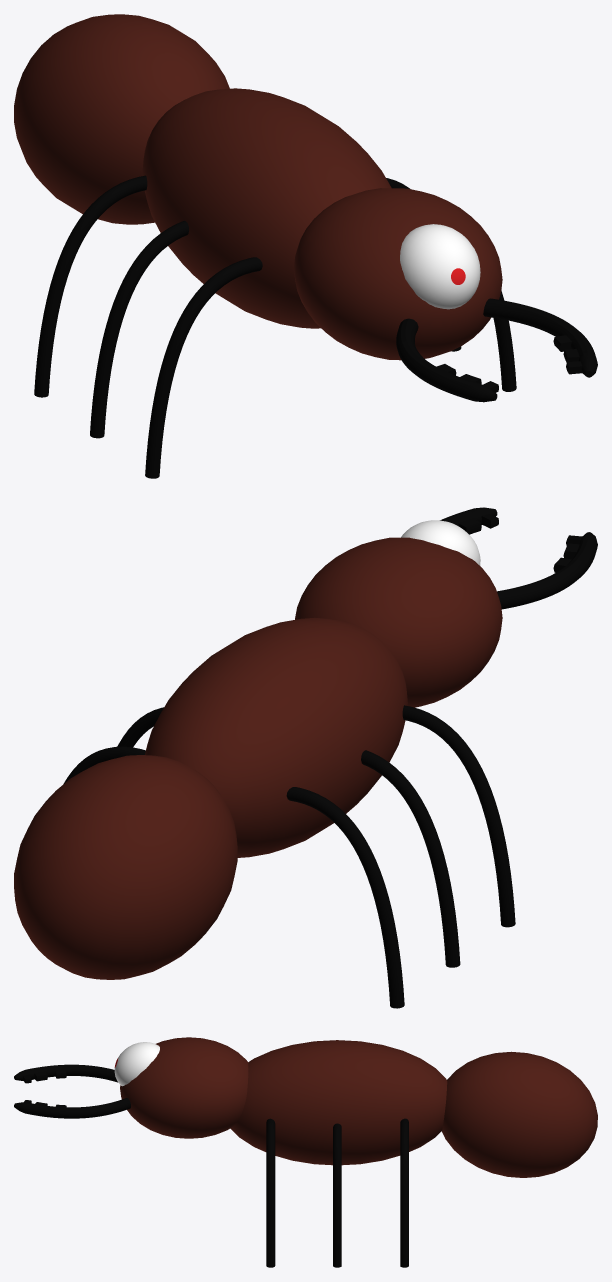
Rendered from muurahainen.fbx.
3 renders of one model, top to bottom at view 1: azimuth 30°, elevation 25°; view 2: azimuth 150°, elevation 25°; view 3: azimuth 270°, elevation 25°, orthographic. The views are drawn at different scales.
Parts seen in each view (by area): view 1: Sphere, Sphere.001, Sphere.002, NurbsPath, Sphere.003, NurbsPath.002, NurbsPath.003, NurbsPath.001; view 2: Sphere, Sphere.001, Sphere.002, NurbsPath.003, NurbsPath.001, NurbsPath.002, NurbsPath, Sphere.003; view 3: Sphere, Sphere.001, Sphere.002, NurbsPath, NurbsPath.002, NurbsPath.003, NurbsPath.001, Sphere.003.
Boxes of the visible parts, x1,y1,x2,y2 form: Sphere: [142, 88, 391, 328]; Sphere.001: [14, 14, 229, 224]; Sphere.002: [293, 188, 502, 360]; NurbsPath: [396, 298, 597, 402]; Sphere.003: [400, 224, 480, 309]; NurbsPath.002: [145, 257, 516, 478]; NurbsPath.003: [34, 175, 147, 397]; NurbsPath.001: [90, 178, 461, 438]; Sphere: [145, 617, 407, 857]; Sphere.001: [14, 755, 237, 979]; Sphere.002: [295, 537, 502, 707]; NurbsPath.003: [63, 746, 404, 1008]; NurbsPath.001: [117, 707, 460, 967]; NurbsPath.002: [402, 705, 515, 927]; NurbsPath: [440, 507, 597, 609]; Sphere.003: [401, 520, 480, 565]; Sphere: [230, 1040, 447, 1165]; Sphere.001: [441, 1051, 597, 1177]; Sphere.002: [120, 1037, 248, 1138]; NurbsPath: [14, 1064, 130, 1118]; NurbsPath.002: [266, 1118, 275, 1267]; NurbsPath.003: [400, 1118, 408, 1267]; NurbsPath.001: [333, 1123, 341, 1267]; Sphere.003: [114, 1042, 159, 1086].
Bounding box in the file's own units: 410 × 298 × 931.
